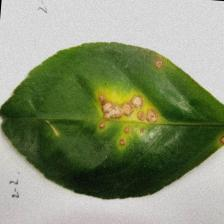canker: (82, 81, 184, 148)
